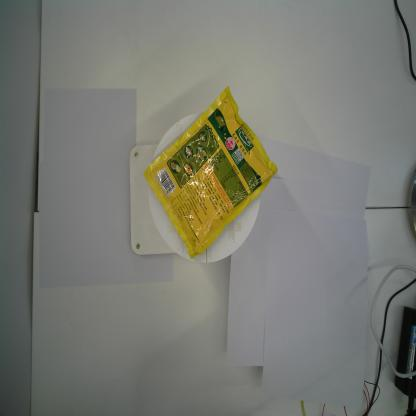Seasoner: (142, 84, 279, 260)
